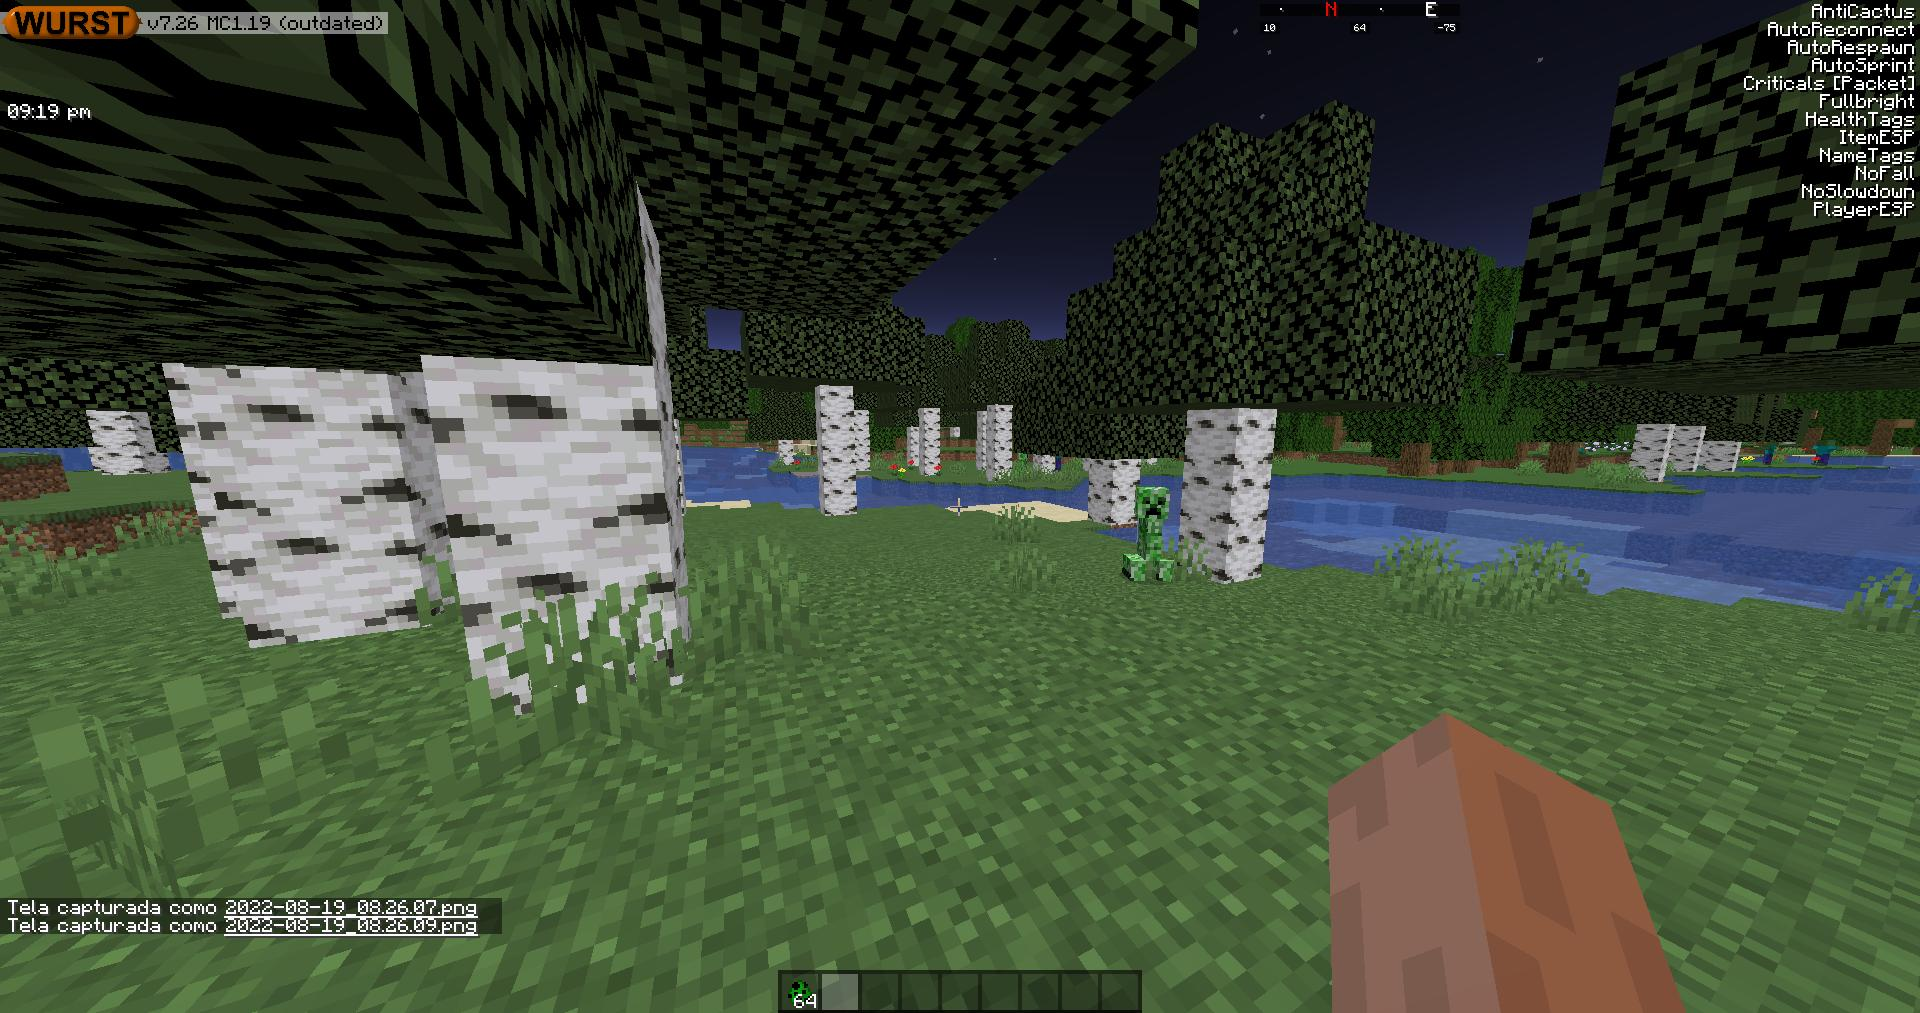creeper: (1115, 479, 1182, 594)
